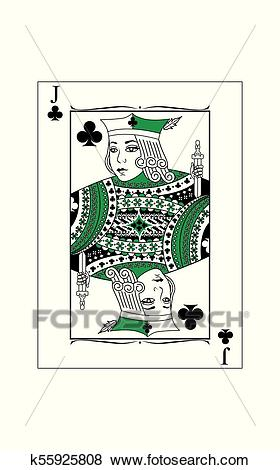jack of clubs: (37, 79, 242, 368)
